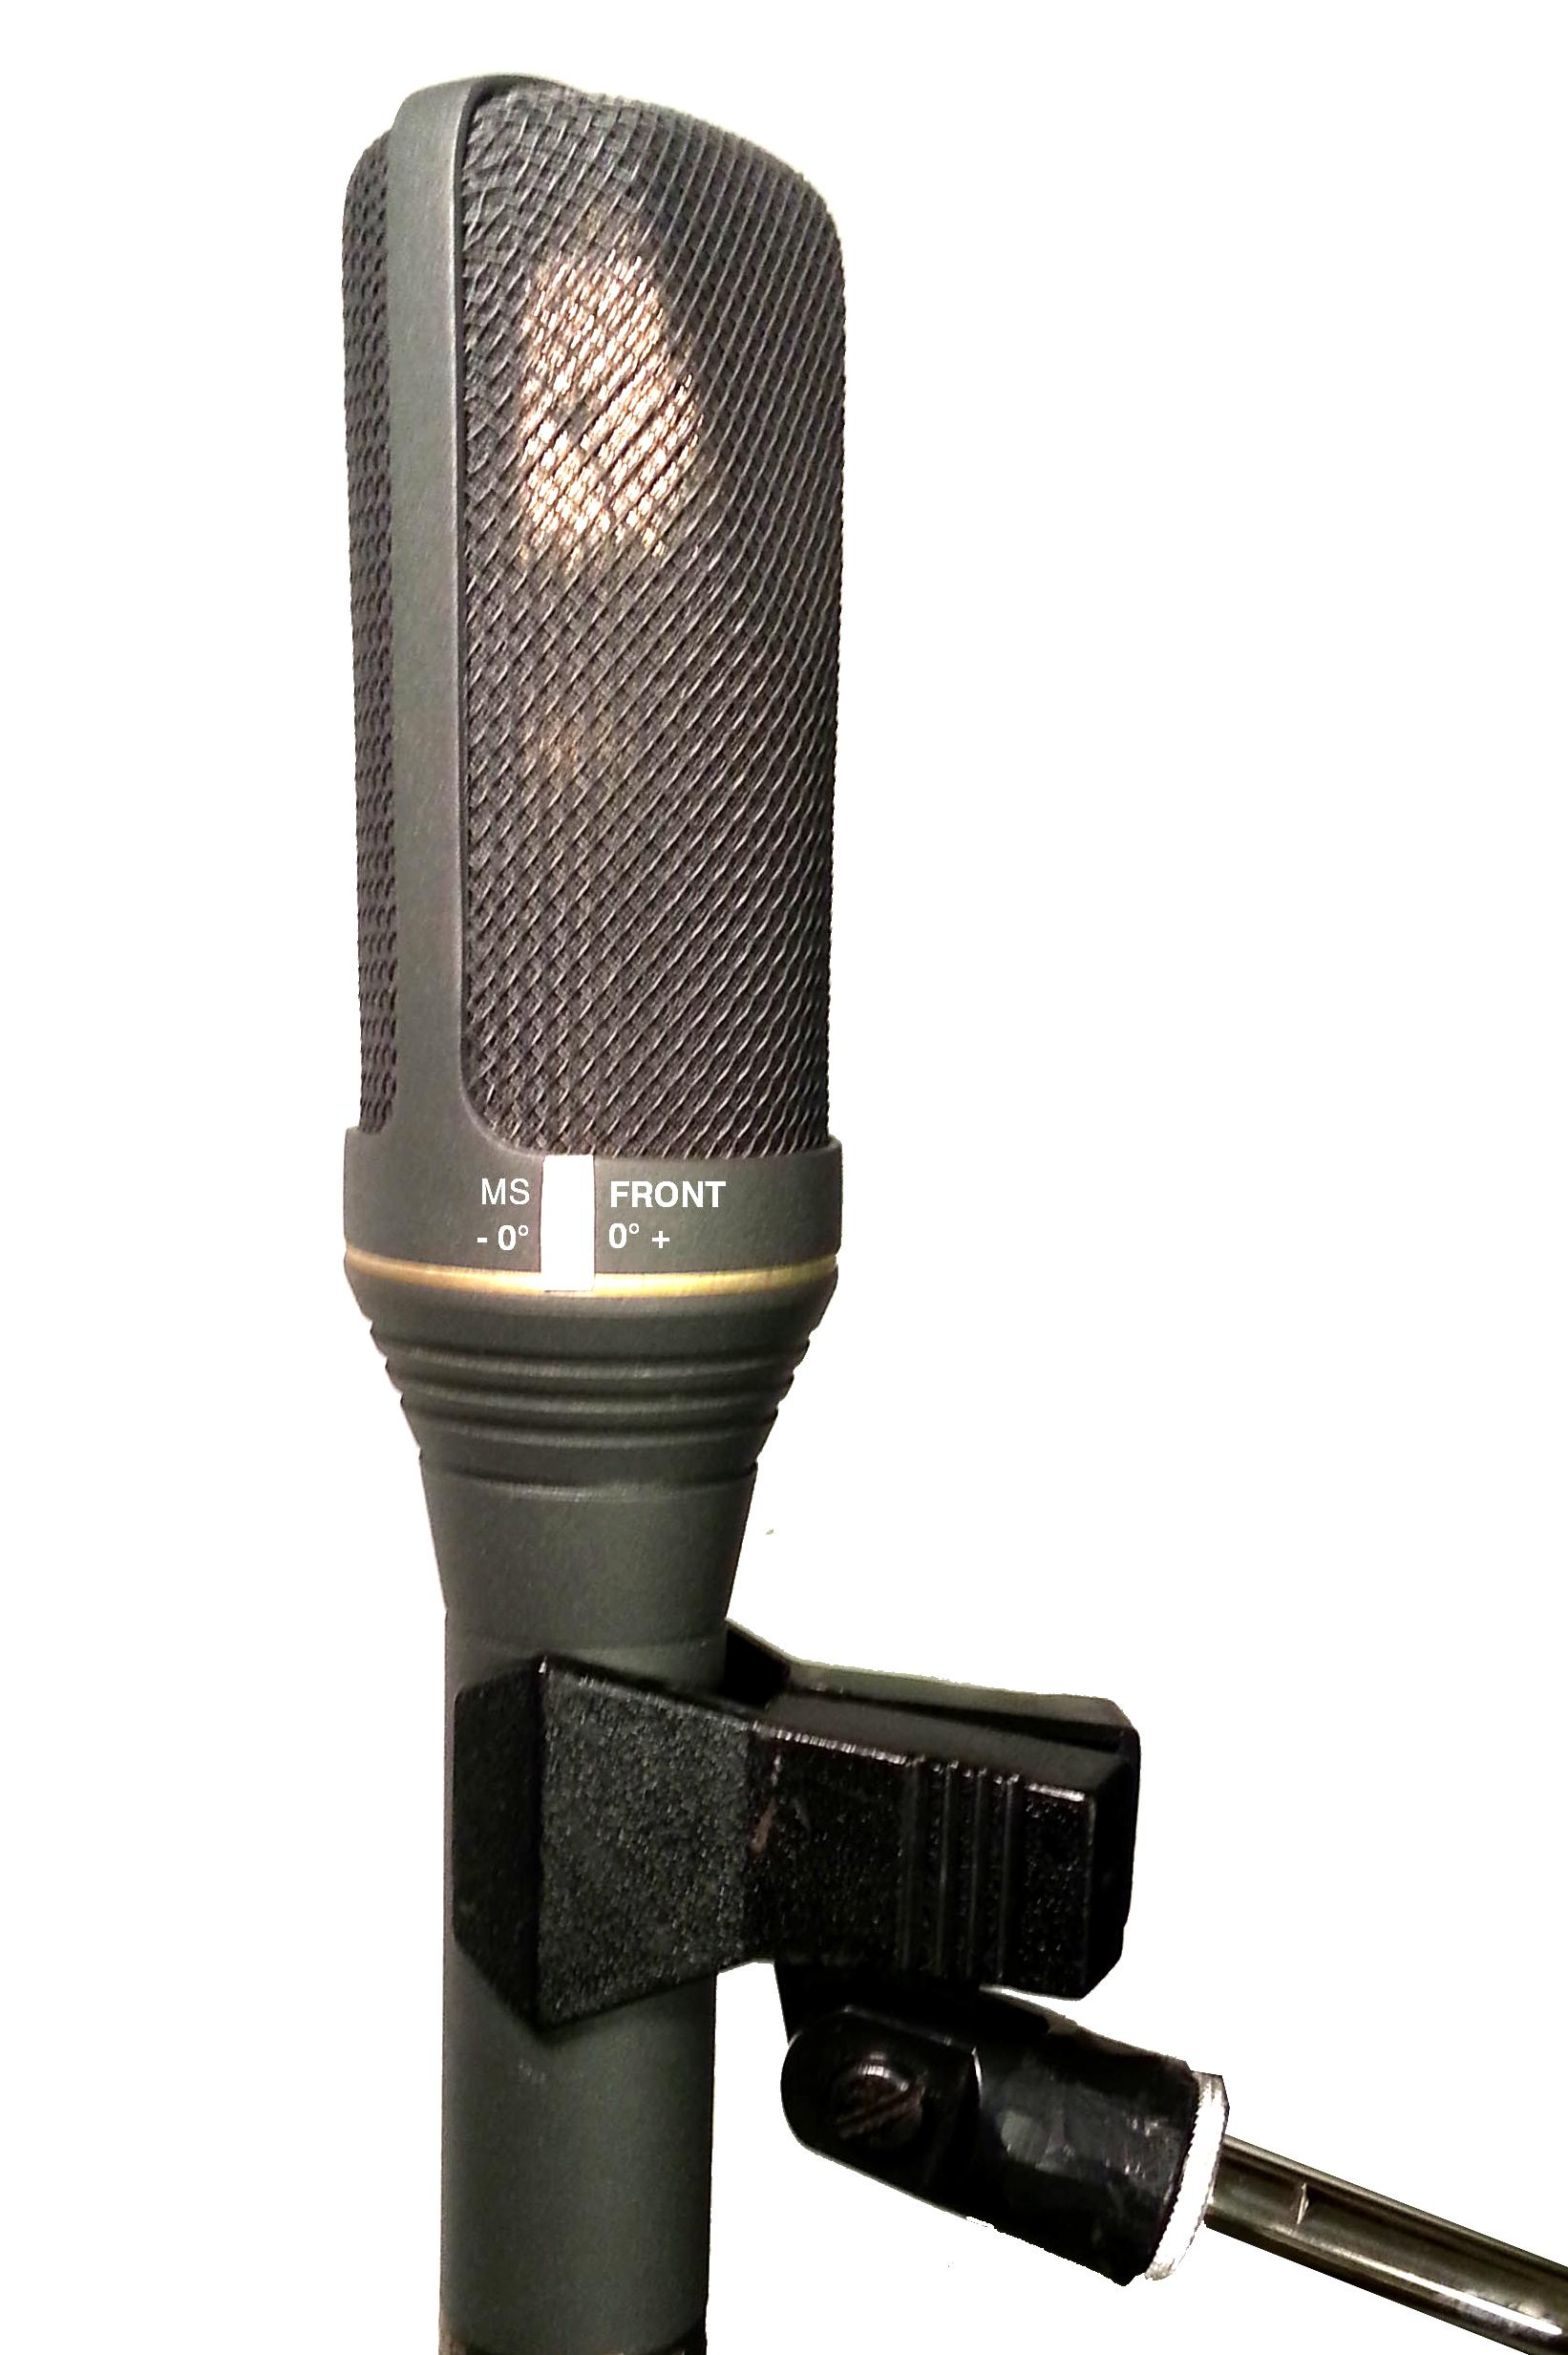Microphone: (235, 0, 891, 2348)
